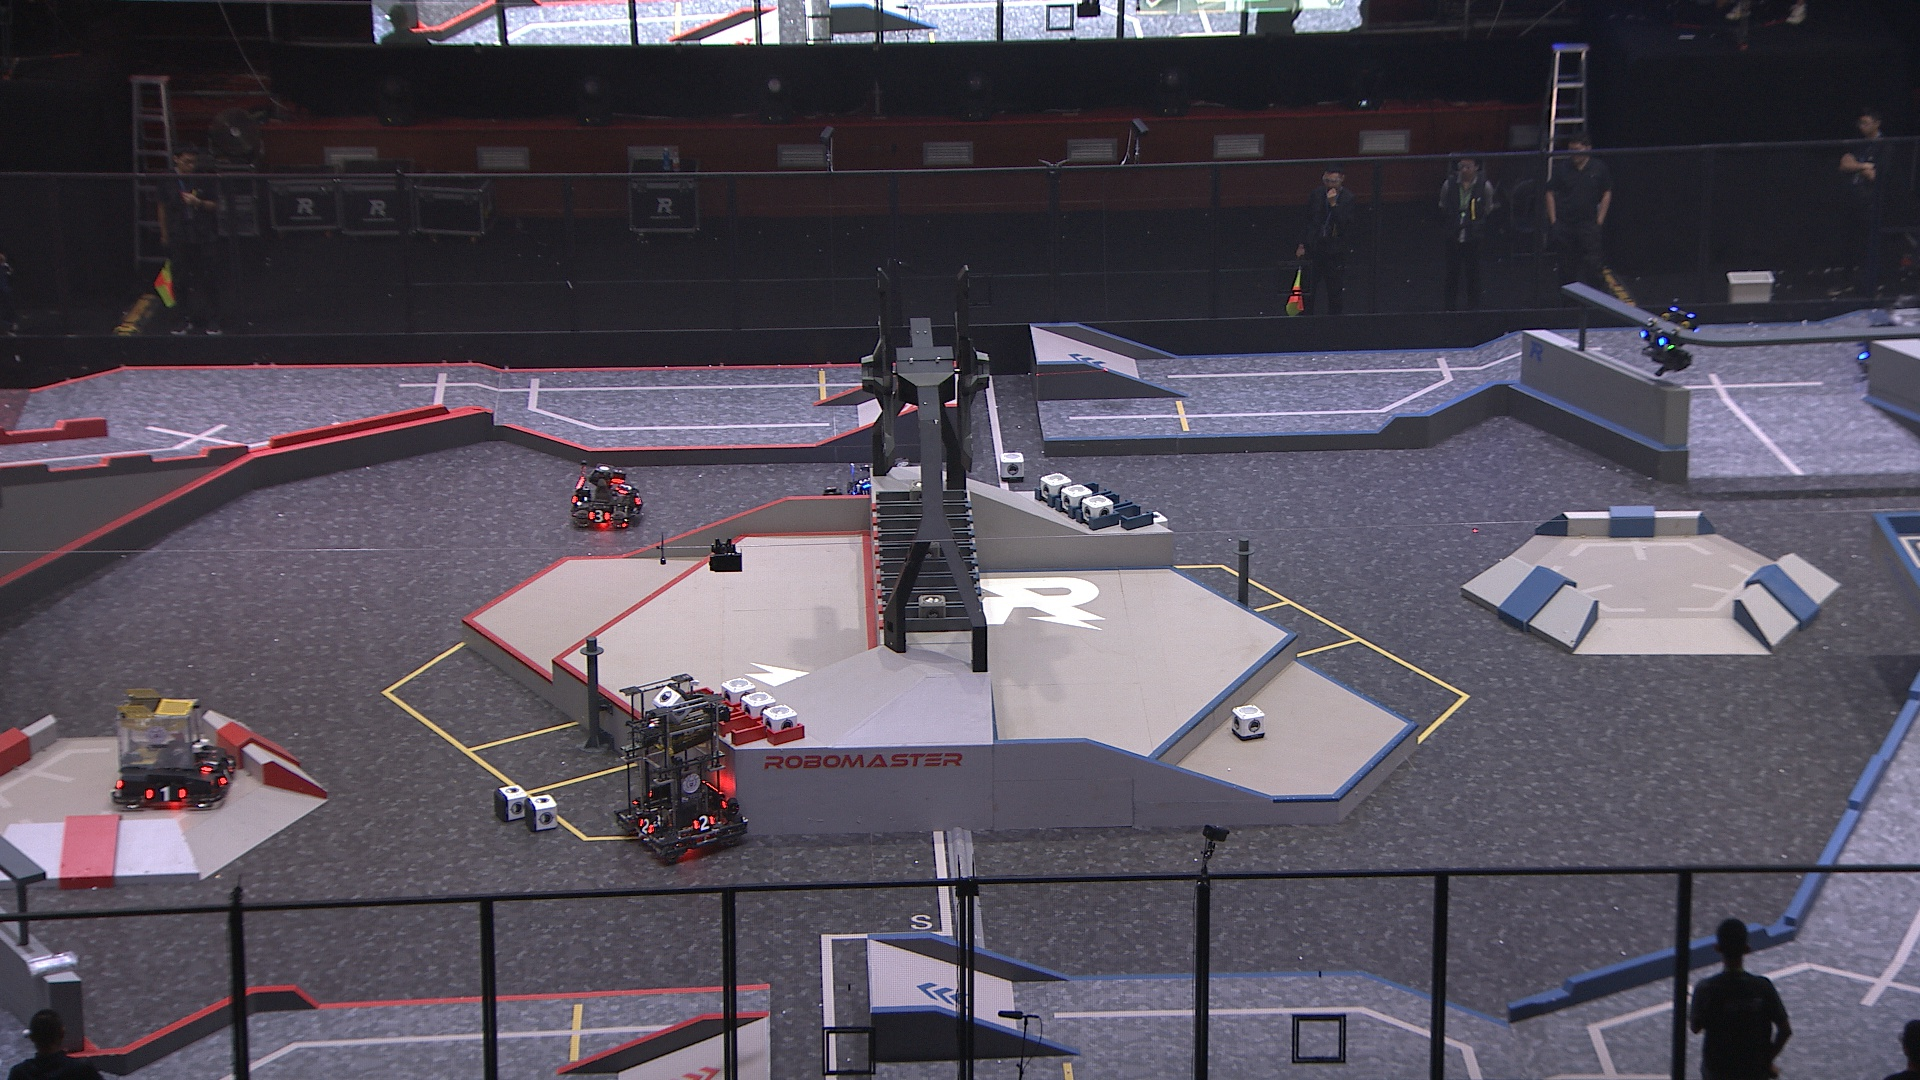armor: (141, 785, 190, 803), (1638, 327, 1669, 349), (216, 761, 237, 790), (196, 752, 222, 774), (588, 506, 613, 527), (692, 812, 717, 832), (636, 815, 655, 836), (613, 480, 636, 498), (628, 495, 647, 512), (856, 472, 873, 491)
car: (612, 673, 760, 858), (107, 683, 244, 816), (1854, 281, 1920, 394), (814, 455, 894, 527), (567, 462, 651, 529)
watcher: (1633, 297, 1704, 380)
